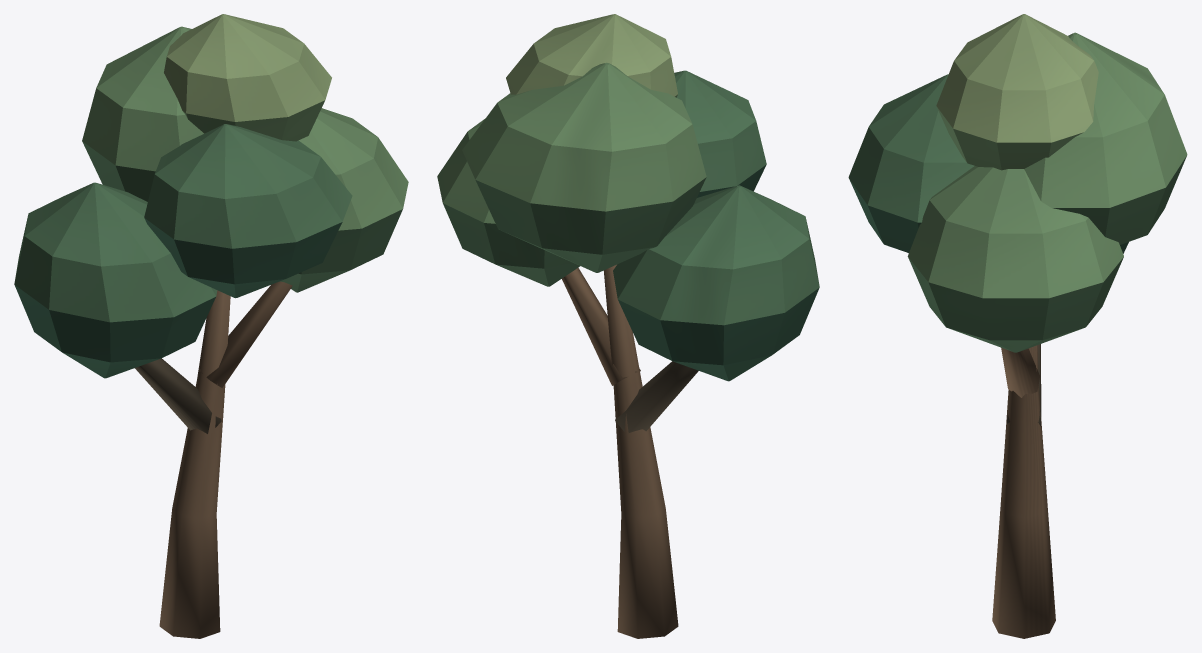
The model's file is coast_tree.glb.
3 renders of one model, left to right at view 1: azimuth 30°, elevation 25°; view 2: azimuth 150°, elevation 25°; view 3: azimuth 270°, elevation 25°, orthographic. The views are drawn at different scales.
Parts seen in each view (by area): view 1: coast_tree; view 2: coast_tree; view 3: coast_tree.
Boxes of the visible parts, bbox=[...] form: coast_tree: bbox=[14, 14, 408, 638]; coast_tree: bbox=[437, 14, 819, 638]; coast_tree: bbox=[848, 14, 1187, 638].
Bounding box in the file's own units: 2.08 × 3.39 × 1.66.
Materials: 1 (1 with a texture image).
